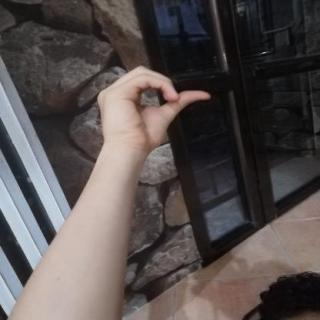WAW: (84, 57, 220, 159)
